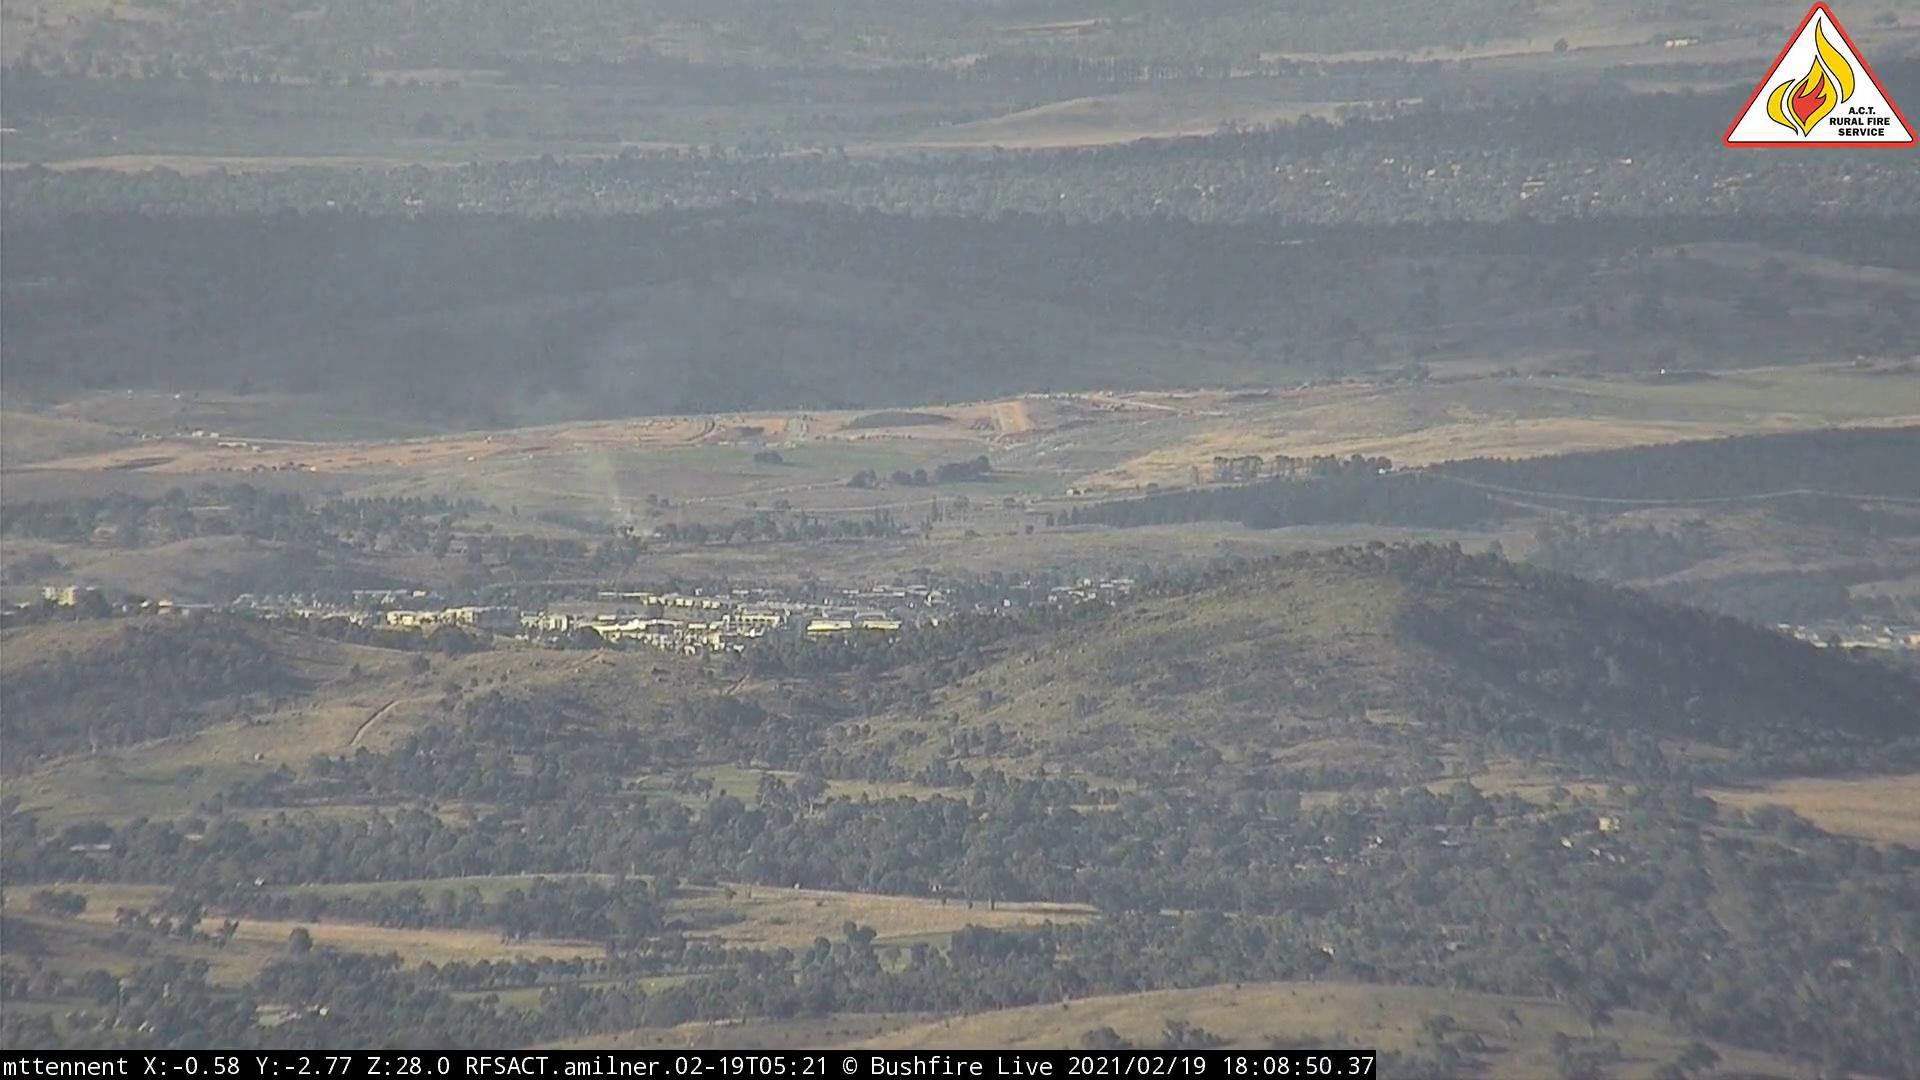instance_salient_object: (592, 491, 649, 539)
